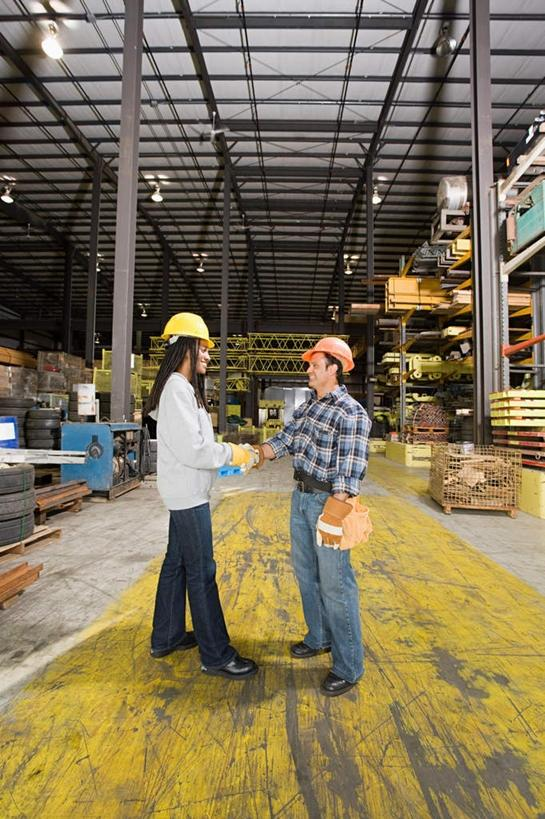helmet: (301, 336, 356, 373), (162, 311, 212, 351)
no_wear: (294, 394, 364, 494), (158, 377, 211, 506)
